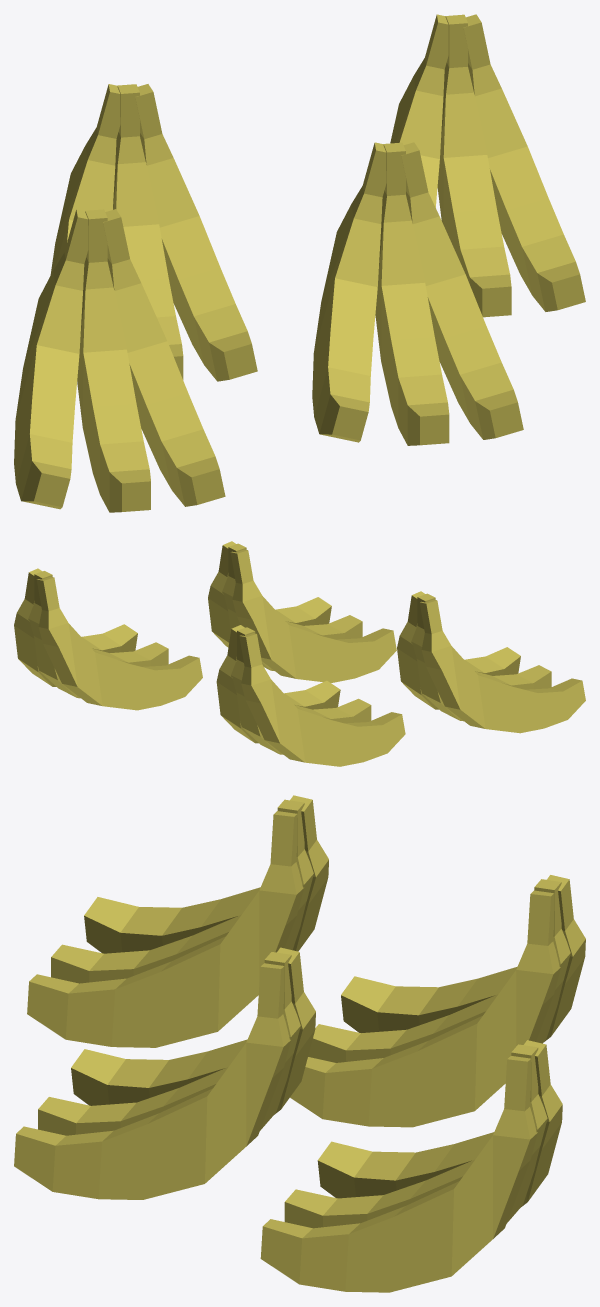
Rendered from banana_box1.fbx.
The picture shows the model from 3 angles, top to bottom: view 1: azimuth 30°, elevation 25°; view 2: azimuth 150°, elevation 25°; view 3: azimuth 270°, elevation 25°; orthographic projection. The views are drawn at different scales.
Parts seen in each view (by area): view 1: banana_s; view 2: banana_s; view 3: banana_s.
Boxes of the visible parts, x1,y1,x2,y2 form: banana_s: (14, 14, 585, 512); banana_s: (14, 541, 585, 766); banana_s: (14, 795, 585, 1292).
Bounding box in the file's own units: 105 × 32.45 × 72.1.
